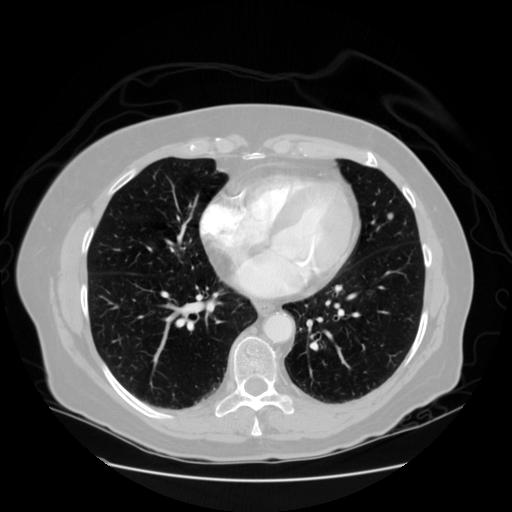nodule: (384, 210, 396, 222)
